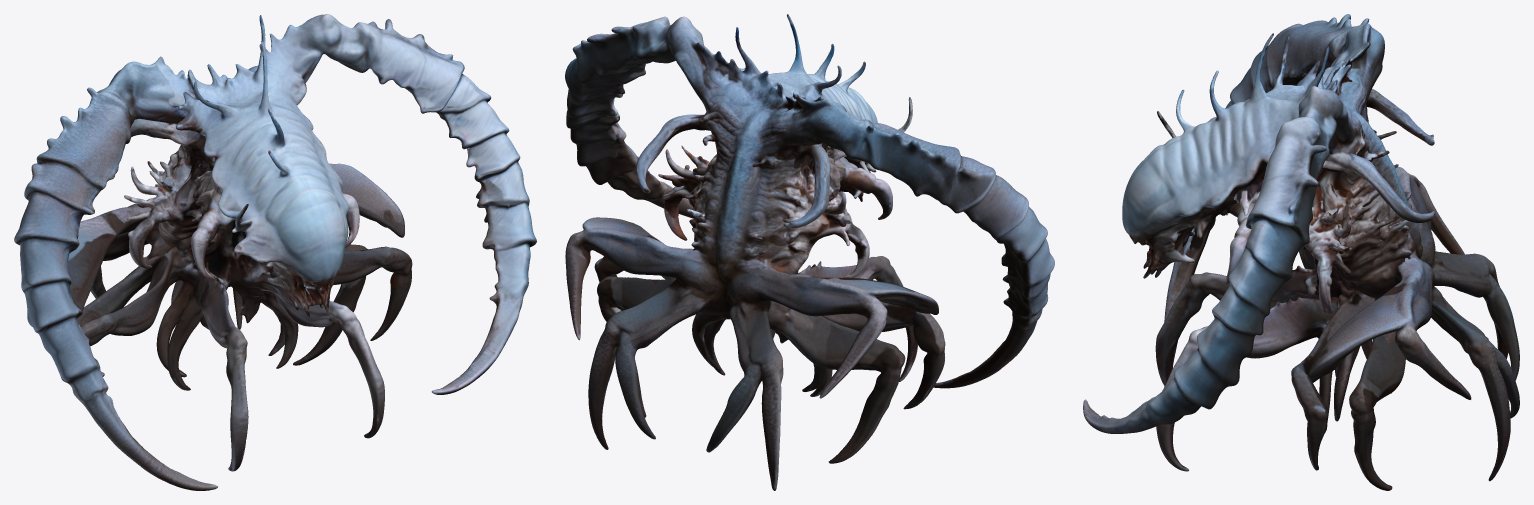
Rendered from asset.glb.
3 renders of one model, left to right at view 1: azimuth 30°, elevation 25°; view 2: azimuth 150°, elevation 25°; view 3: azimuth 270°, elevation 25°, orthographic. The views are drawn at different scales.
Parts seen in each view (by area): view 1: tripo_node_b9631cda-4dc1-49e9-ae59-30e2345bee5e; view 2: tripo_node_b9631cda-4dc1-49e9-ae59-30e2345bee5e; view 3: tripo_node_b9631cda-4dc1-49e9-ae59-30e2345bee5e.
Boxes of the visible parts, x1,y1,x2,y2 form: tripo_node_b9631cda-4dc1-49e9-ae59-30e2345bee5e: [14, 14, 536, 490]; tripo_node_b9631cda-4dc1-49e9-ae59-30e2345bee5e: [565, 14, 1054, 490]; tripo_node_b9631cda-4dc1-49e9-ae59-30e2345bee5e: [1083, 14, 1519, 490].
Bounding box in the file's own units: 0.9414 × 0.7221 × 0.6934.
1 material, 1 textured.
